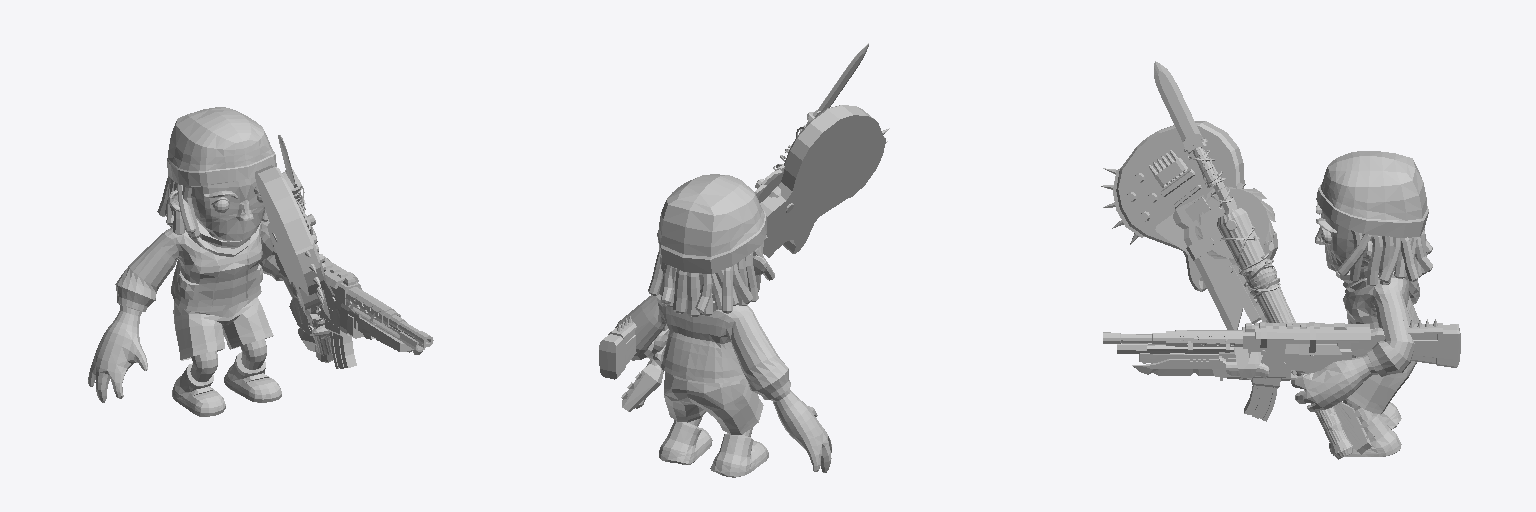
The model's file is Characters_Sam.obj.
3 views of the same model, side by side, from view 1: azimuth 30°, elevation 25°; view 2: azimuth 150°, elevation 25°; view 3: azimuth 270°, elevation 25° (orthographic).
Visible parts, largest first — view 1: Sam_Cube.001, Guitar_Cube.008, SMG_Cube.064, Rifle_Cube.010, Shotgun_Cube.002, Pistol_Cube.007, Spear_Cylinder.027; view 2: Sam_Cube.001, Guitar_Cube.008, Rifle_Cube.010, Spear_Cylinder.027, WoodenBat_Saw_CUBezierCurve.001; view 3: Sam_Cube.001, Guitar_Cube.008, Rifle_Cube.010, WoodenBat_Saw_CUBezierCurve.001, SMG_Cube.064, Axe_Cylinder.014, Pistol_Cube.007, Spear_Cylinder.027, WoodenBat_Barbed_Cylinder.005, Shotgun_Cube.002.
Part boxes in pixels (x1,y1,x2,y2): Sam_Cube.001: (88, 107, 329, 416); Guitar_Cube.008: (255, 165, 325, 351); SMG_Cube.064: (272, 247, 406, 336); Rifle_Cube.010: (272, 245, 433, 368); Shotgun_Cube.002: (289, 297, 425, 351); Pistol_Cube.007: (294, 301, 422, 354); Spear_Cylinder.027: (278, 135, 305, 212); Sam_Cube.001: (615, 174, 831, 477); Guitar_Cube.008: (621, 105, 889, 411); Rifle_Cube.010: (599, 316, 667, 379); Spear_Cylinder.027: (646, 43, 868, 366); WoodenBat_Saw_CUBezierCurve.001: (636, 164, 793, 408); Sam_Cube.001: (1291, 151, 1432, 456); Guitar_Cube.008: (1101, 121, 1374, 454); Rifle_Cube.010: (1103, 319, 1460, 421); WoodenBat_Saw_CUBezierCurve.001: (1195, 183, 1352, 458); SMG_Cube.064: (1152, 322, 1370, 387); Axe_Cylinder.014: (1173, 195, 1342, 431); Pistol_Cube.007: (1132, 343, 1341, 380); Spear_Cylinder.027: (1154, 61, 1346, 436); WoodenBat_Barbed_Cylinder.005: (1217, 208, 1352, 459); Shotgun_Cube.002: (1117, 343, 1309, 374).
Size of the model in its own units: 1.18 by 1.79 by 1.67.